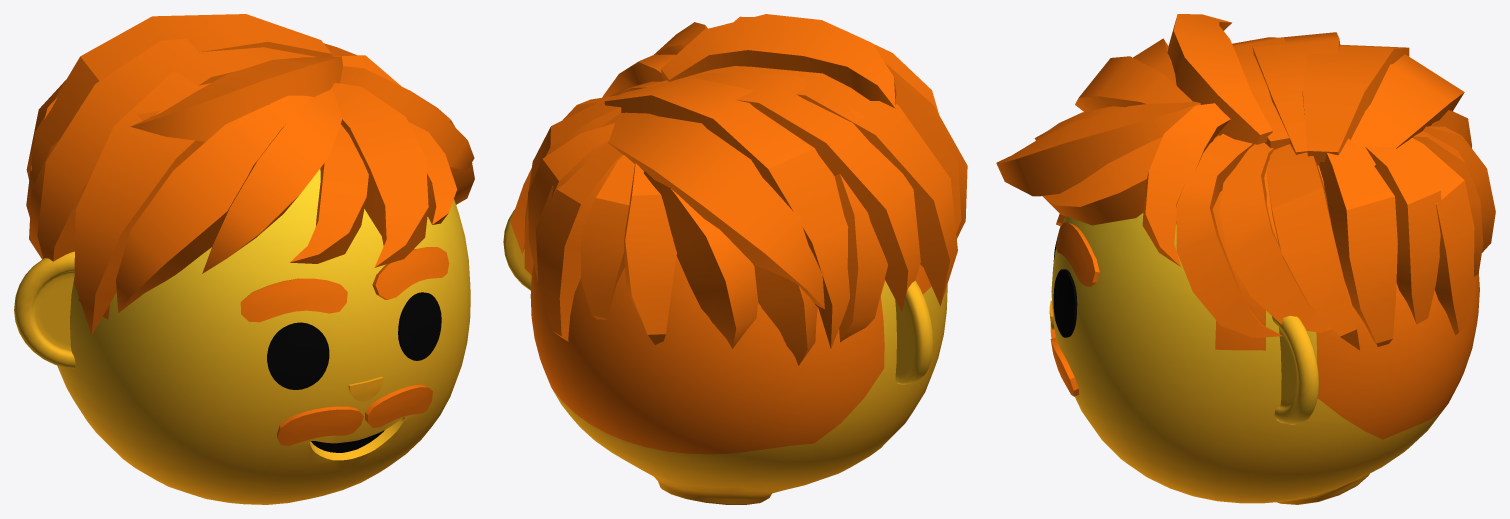
Rendered from man_red_hair.fbx.
3 renders of one model, left to right at view 1: azimuth 30°, elevation 25°; view 2: azimuth 150°, elevation 25°; view 3: azimuth 270°, elevation 25°, orthographic. The views are drawn at different scales.
Parts seen in each view (by area): view 1: Cube.301, Roundcube.010, Circle.315, Circle.317, ears.011, Circle.318, Circle.316; view 2: Cube.301, Roundcube.010, ears.011; view 3: Cube.301, Roundcube.010, ears.011, Circle.317, Circle.315, Circle.318.
Boxes of the visible parts, left/top/right/bottom form: Cube.301: left=26, top=14, right=474, bottom=334; Roundcube.010: left=57, top=168, right=470, bottom=504; Circle.315: left=267, top=292, right=441, bottom=389; Circle.317: left=240, top=247, right=449, bottom=322; ears.011: left=14, top=251, right=75, bottom=368; Circle.318: left=277, top=384, right=432, bottom=445; Circle.316: left=348, top=376, right=383, bottom=401; Cube.301: left=510, top=14, right=967, bottom=365; Roundcube.010: left=530, top=256, right=947, bottom=504; ears.011: left=503, top=209, right=933, bottom=384; Cube.301: left=996, top=14, right=1495, bottom=350; Roundcube.010: left=1051, top=135, right=1479, bottom=504; ears.011: left=1272, top=315, right=1318, bottom=424; Circle.317: left=1056, top=214, right=1099, bottom=286; Circle.315: left=1053, top=226, right=1077, bottom=337; Circle.318: left=1050, top=323, right=1079, bottom=396.
Bounding box in the file's own units: 176 × 173 × 177.
2 materials, 2 textured.
